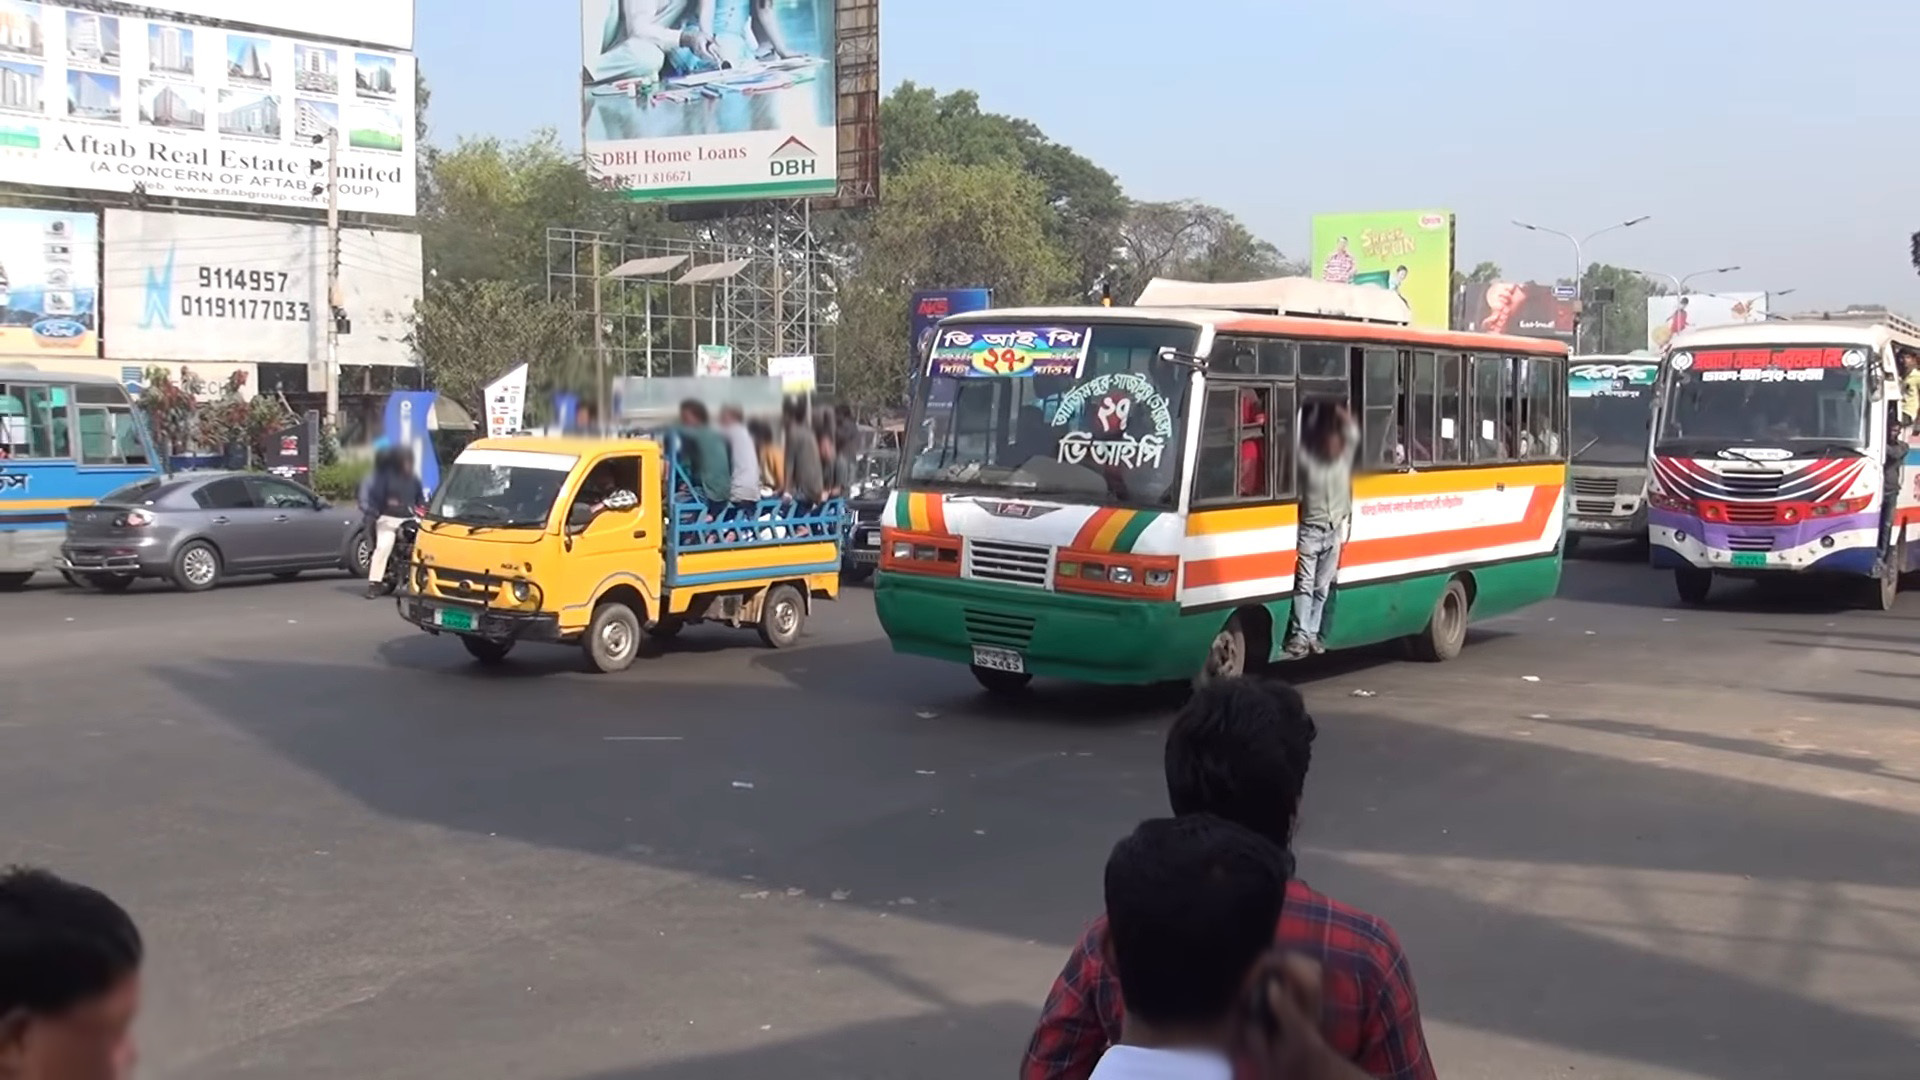bus: (872, 276, 1576, 707), (1647, 314, 1917, 615), (1, 364, 167, 582), (1563, 345, 1659, 555)
car: (55, 469, 365, 591)
truck: (392, 430, 845, 673)
